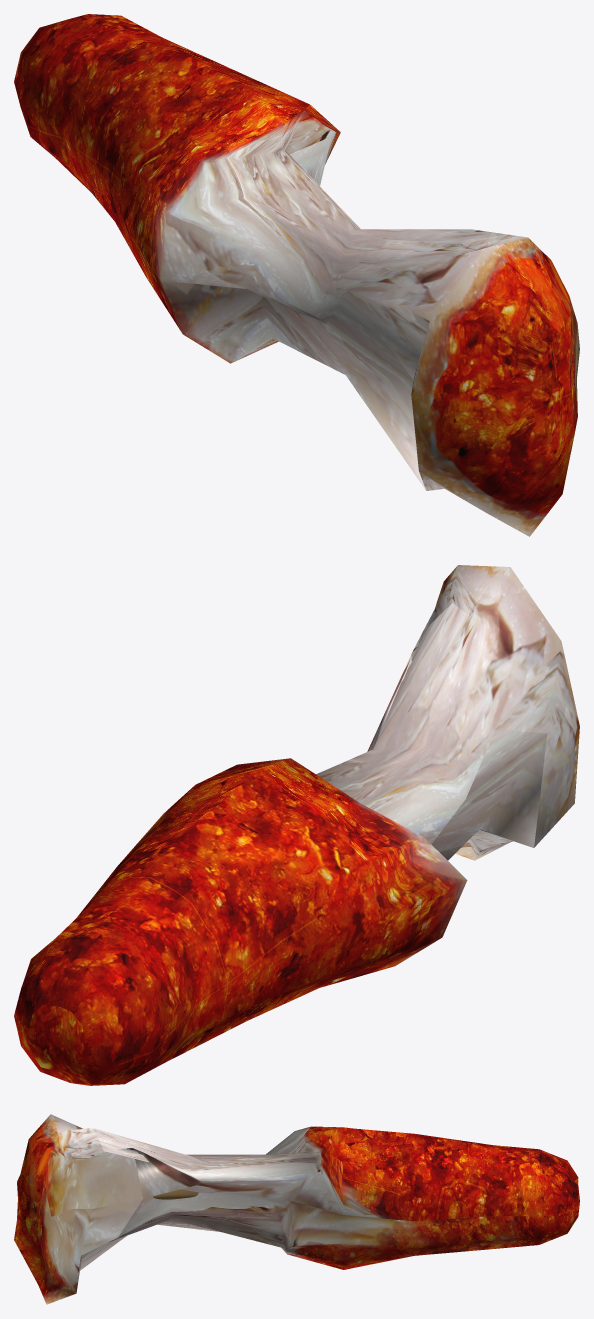
Rendered from friedChicken_Red_eat02.FBX.
3 renders of one model, top to bottom at view 1: azimuth 30°, elevation 25°; view 2: azimuth 150°, elevation 25°; view 3: azimuth 270°, elevation 25°, orthographic. The views are drawn at different scales.
Visible parts, largest first — view 1: Chicken_red_eat02; view 2: Chicken_red_eat02; view 3: Chicken_red_eat02, Chicken_red_eat02_bone.
Boxes of the visible parts, x1,y1,x2,y2 form: Chicken_red_eat02: (14, 14, 579, 536); Chicken_red_eat02: (14, 565, 579, 1085); Chicken_red_eat02: (14, 1114, 579, 1304); Chicken_red_eat02_bone: (153, 1189, 198, 1199).
Bounding box in the file's own units: 10.04 × 34.27 × 11.99.
2 materials, 1 textured.
